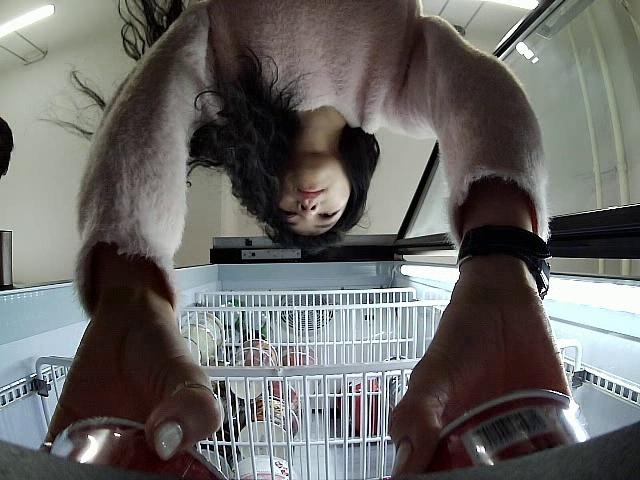00_hand: (385, 294, 571, 480), (37, 306, 228, 463)
